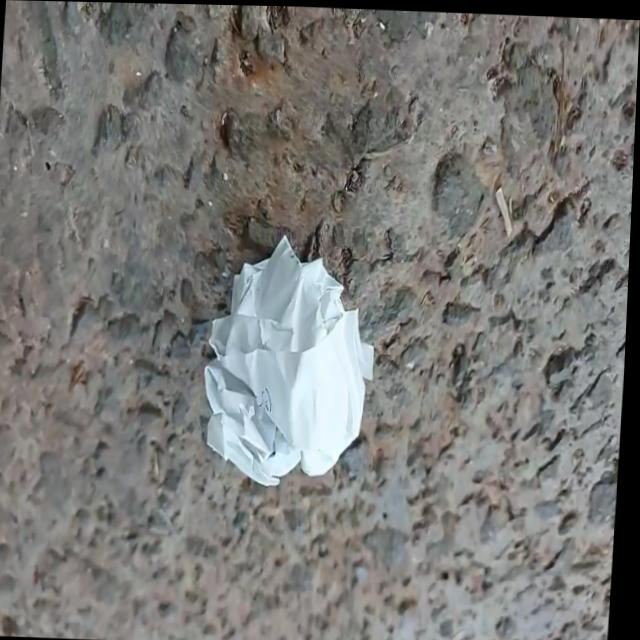paper: (205, 238, 372, 485)
